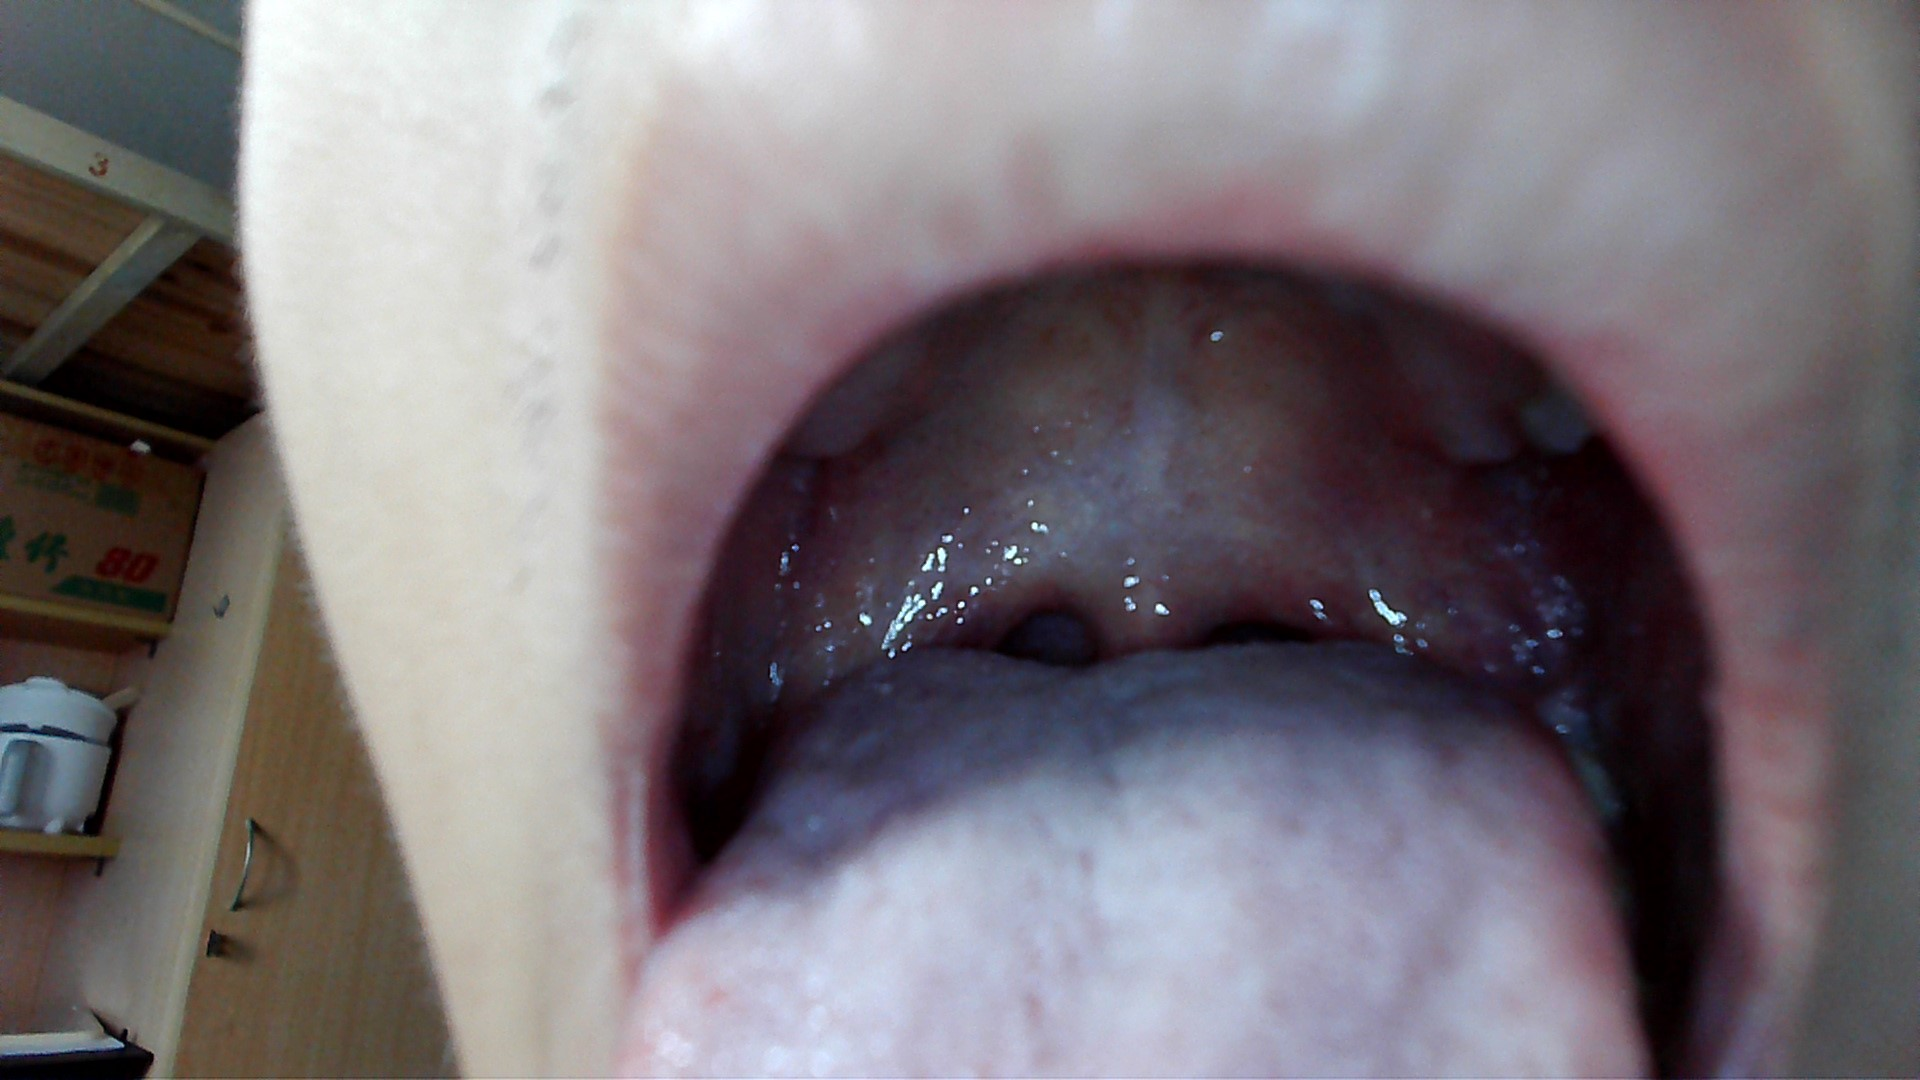throat: (914, 568, 1058, 655)
